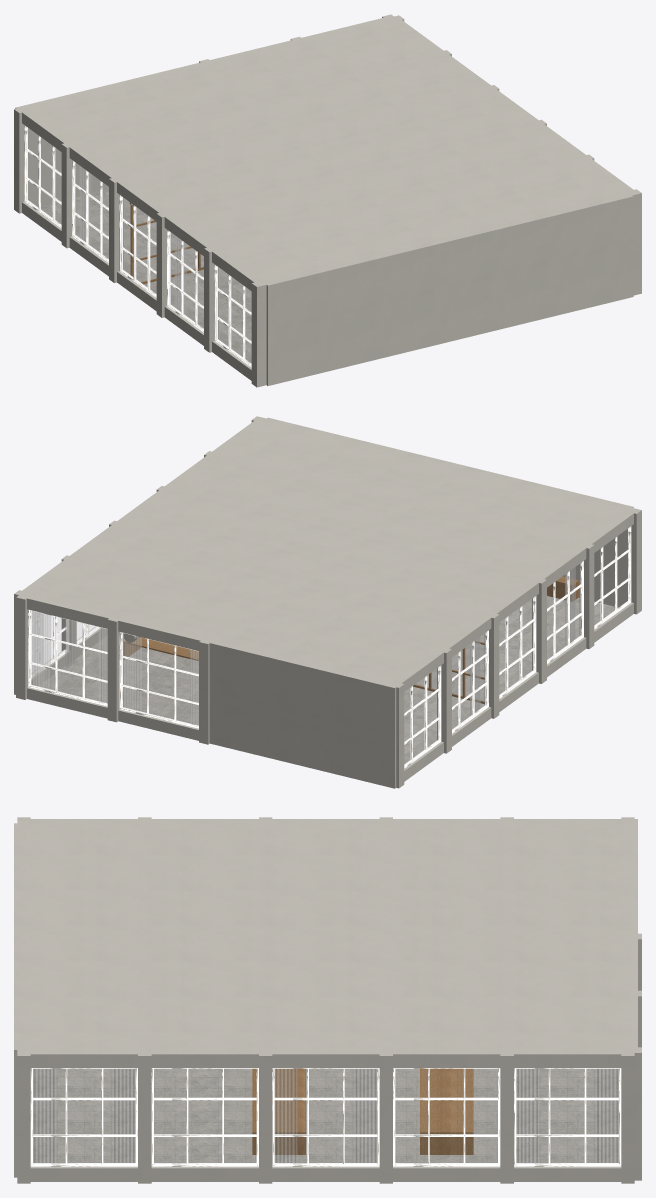
The model's file is bureau_nofurn.glb.
3 views of the same model, one above another, from view 1: azimuth 30°, elevation 25°; view 2: azimuth 150°, elevation 25°; view 3: azimuth 270°, elevation 25° (orthographic). The views are drawn at different scales.
Parts seen in each view (by area): view 1: Plaster, Floor, Frame, Curtain, Oak; view 2: Plaster, Floor, Frame, Curtain, Oak; view 3: Plaster, Floor, Curtain, Frame, Oak.
Boxes of the visible parts, x1,y1,x2,y2 form: Plaster: (14,14,641,387); Floor: (38,189,251,363); Frame: (24,125,251,367); Curtain: (79,166,219,339); Oak: (130,205,203,284); Plaster: (14,416,641,788); Floor: (39,596,618,763); Frame: (28,526,631,768); Curtain: (32,567,575,725); Oak: (123,576,578,703); Plaster: (14,817,641,1183); Floor: (33,1068,618,1162); Curtain: (33,1069,618,1162); Frame: (30,1068,621,1166); Oak: (252,1068,473,1154).
Size of what is drawn, in the model's own units: 16.84 by 4.2 by 18.72.
Materials: 9 (4 with a texture image).
